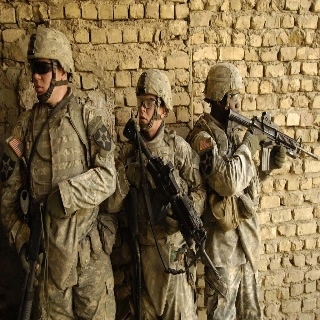rifle: (122, 117, 221, 281), (224, 104, 320, 171)
